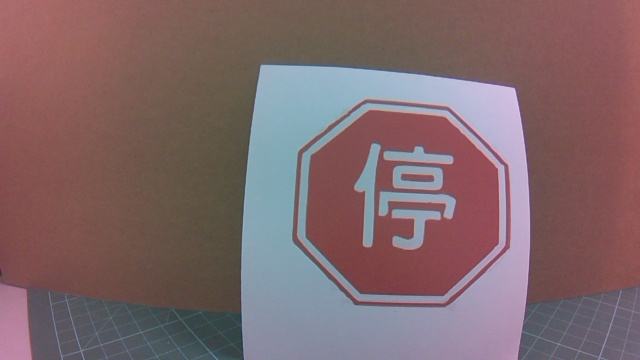stop: (316, 113, 502, 319)
